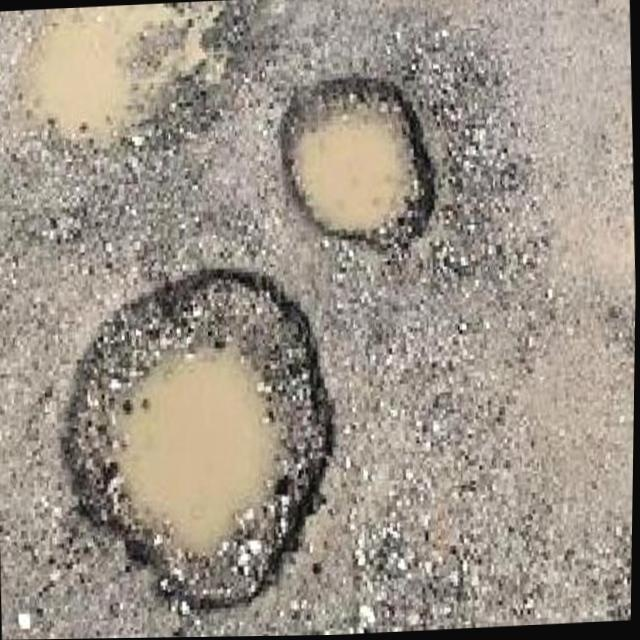pothole: (63, 267, 325, 602), (274, 57, 464, 254), (20, 7, 228, 170)
